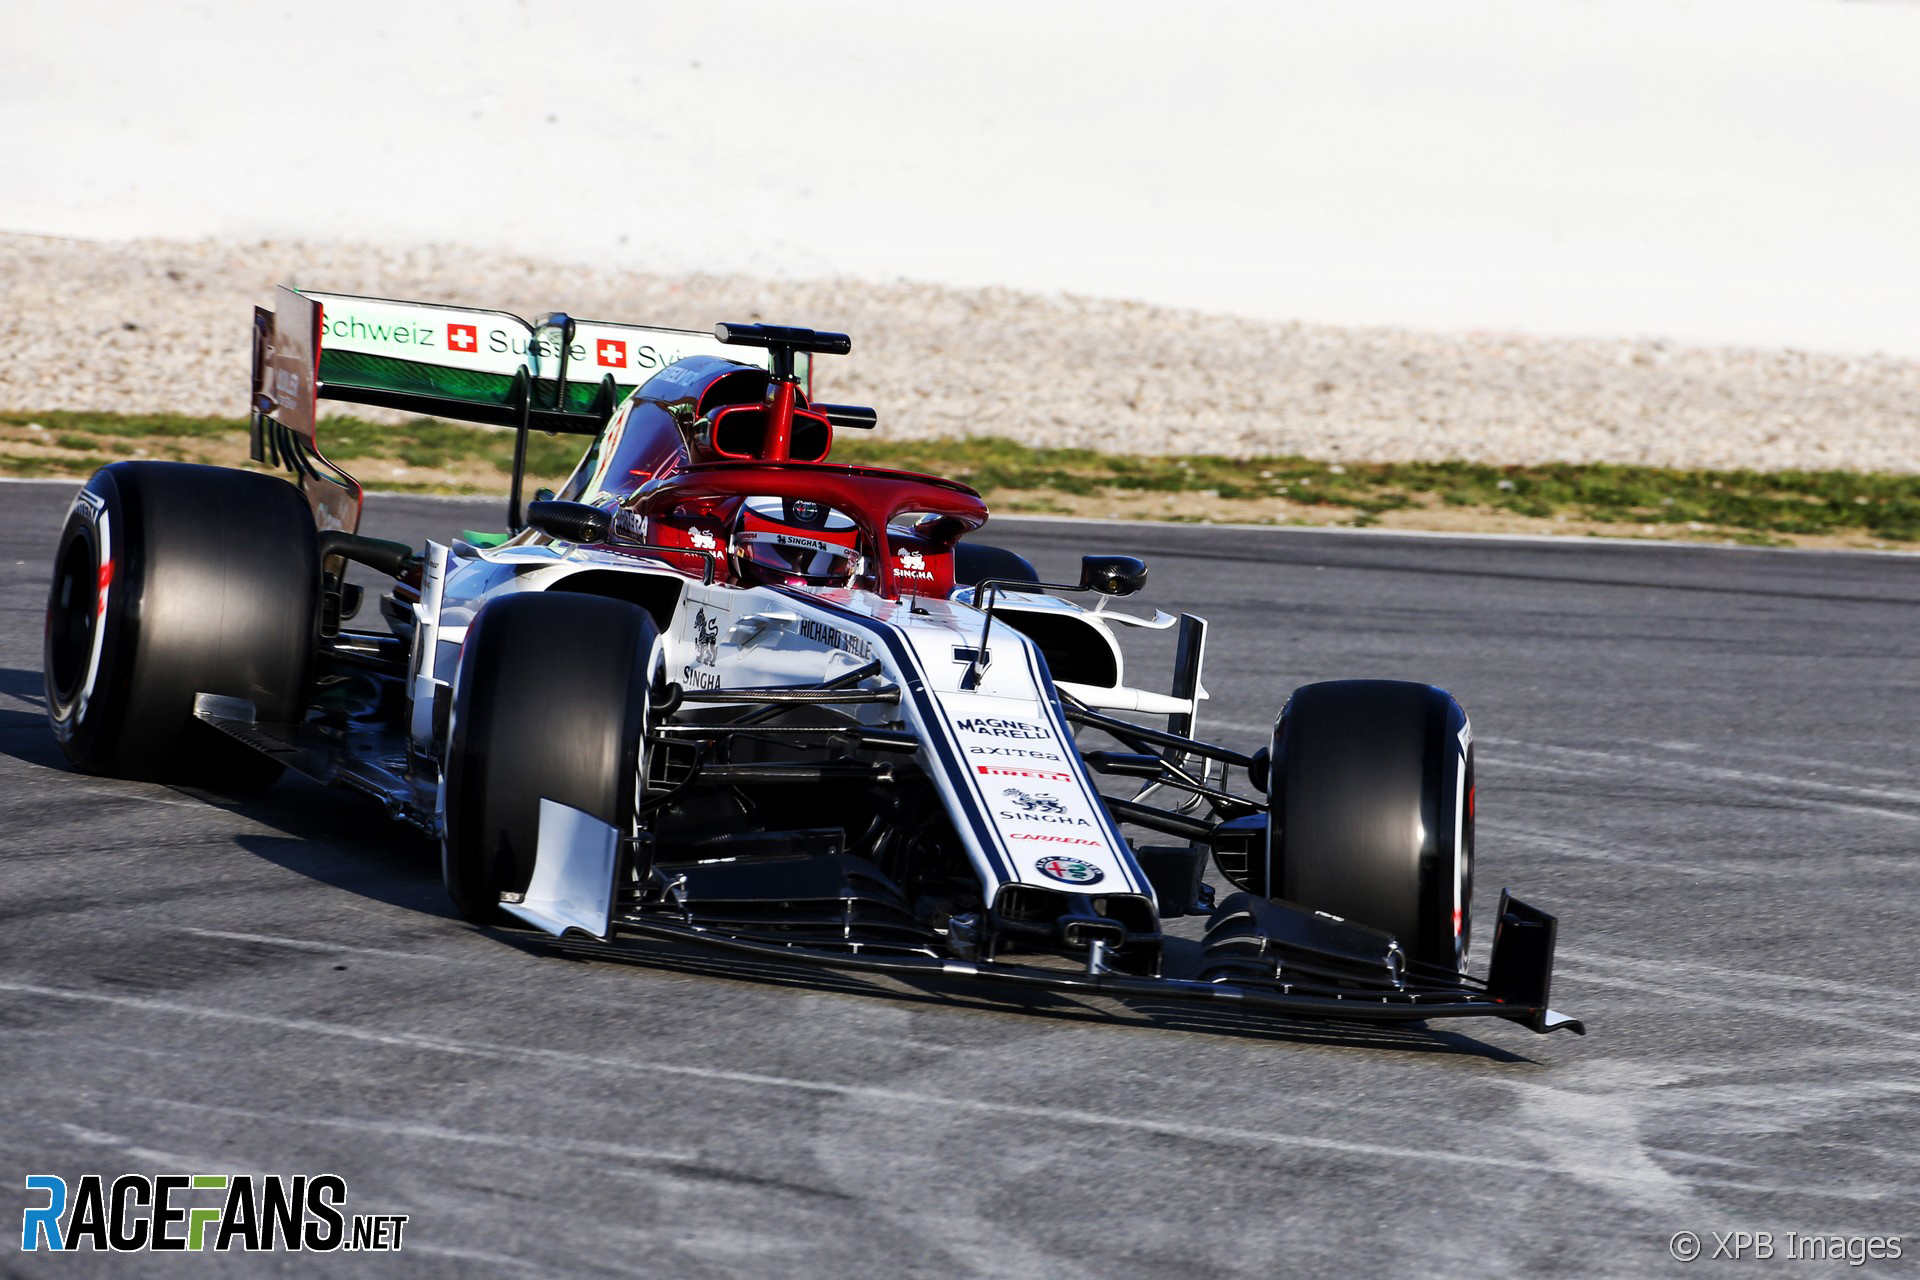F1 Car: (21, 266, 1587, 1059)
